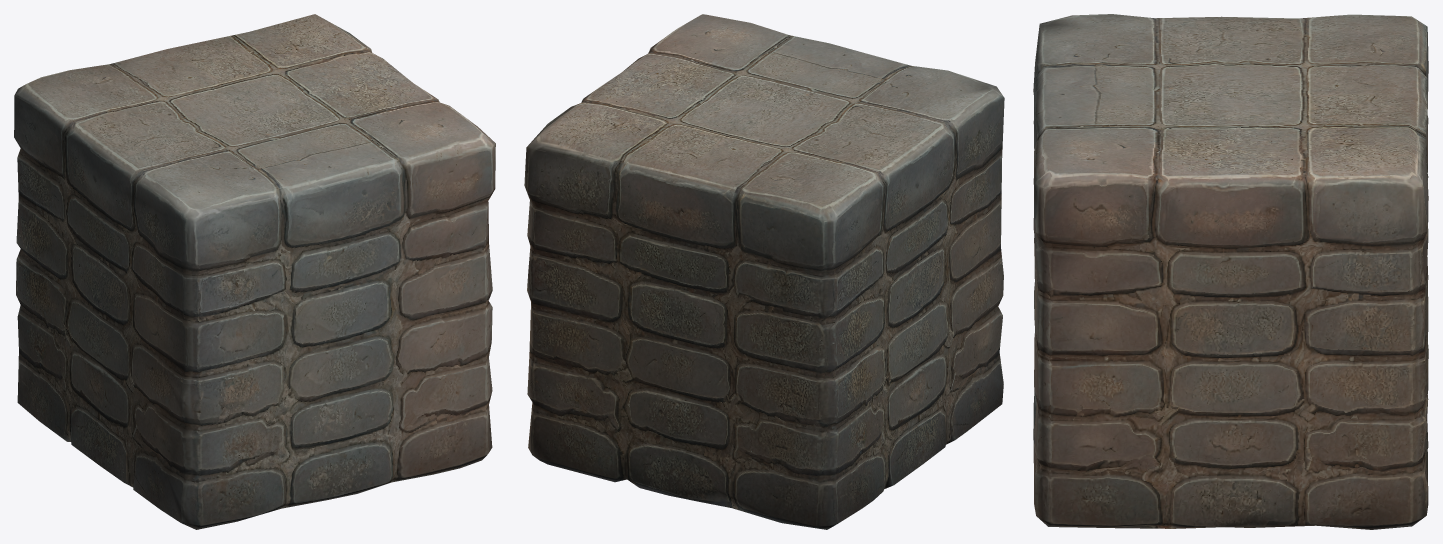
File: Tile_Wall.fbx
The picture shows the model from 3 angles, left to right: view 1: azimuth 30°, elevation 25°; view 2: azimuth 150°, elevation 25°; view 3: azimuth 270°, elevation 25°; orthographic projection. The views are drawn at different scales.
Parts seen in each view (by area): view 1: texture_mapping; view 2: texture_mapping; view 3: texture_mapping.
Part boxes in pixels (<box>): texture_mapping: <box>14,14,495,529</box>; texture_mapping: <box>524,14,1004,529</box>; texture_mapping: <box>1033,14,1428,529</box>.
Size of the model in its own units: 0.9993 by 0.999 by 0.9978.
1 material, 1 textured.
